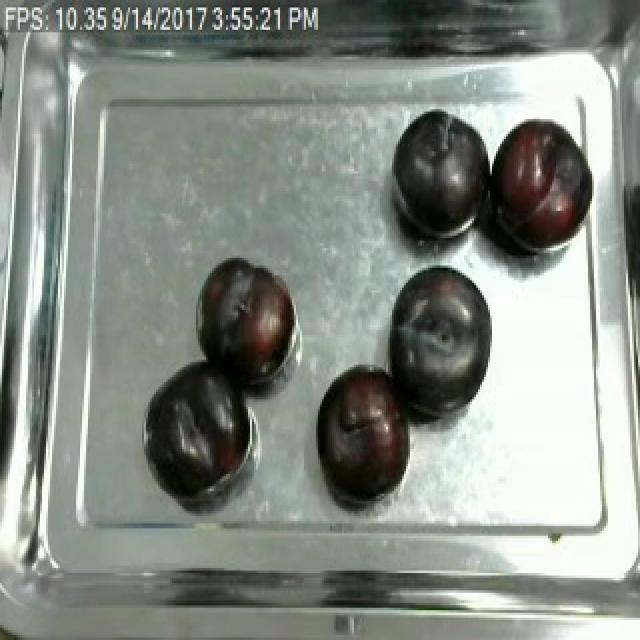Fruit: (382, 261, 494, 424), (480, 112, 598, 266), (142, 355, 252, 496), (386, 104, 492, 246), (312, 362, 416, 501), (194, 253, 296, 389)
